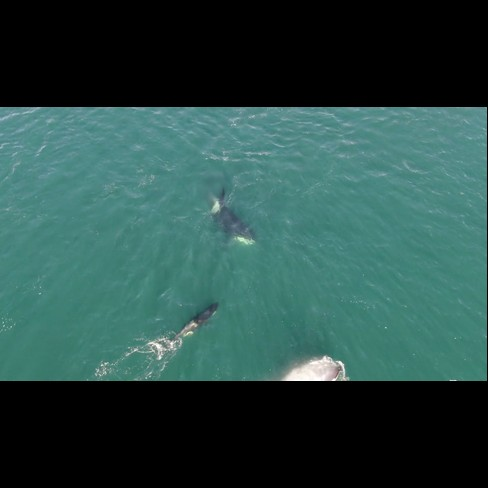orca: (150, 295, 225, 371), (202, 183, 260, 251)
